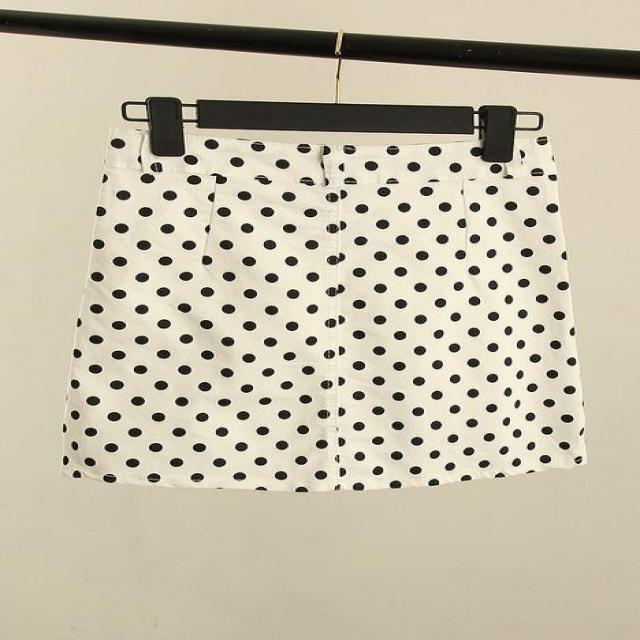skirt: (63, 129, 581, 490)
